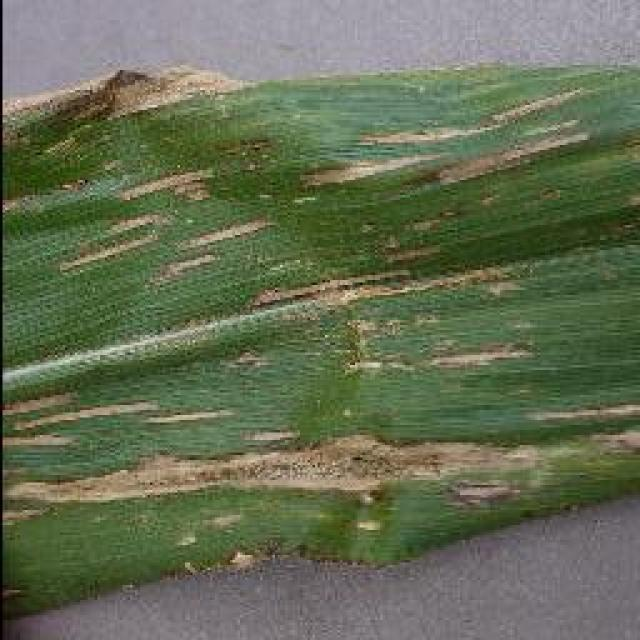Corn_Grey_Leaf_Spot: (0, 73, 640, 555)
